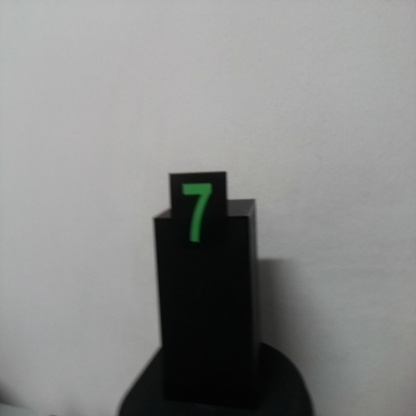id_7: (169, 173, 228, 263)
